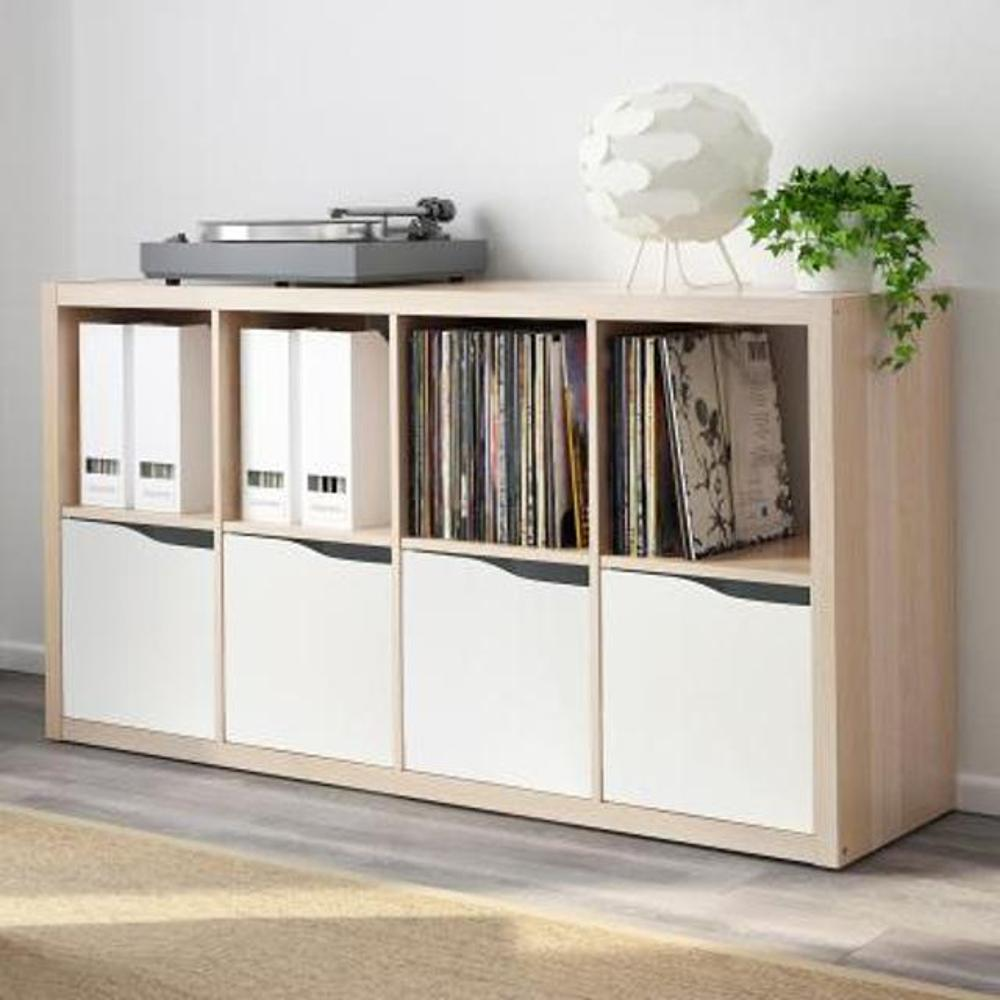lamp: (43, 259, 959, 885)
